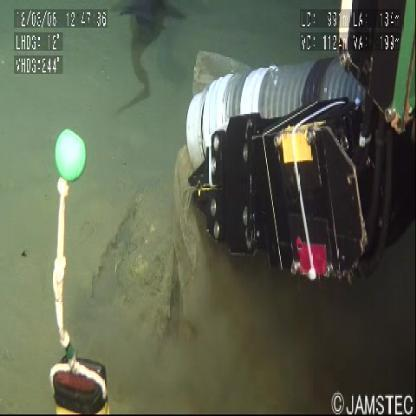Rác: (98, 142, 208, 361), (194, 51, 256, 102)
